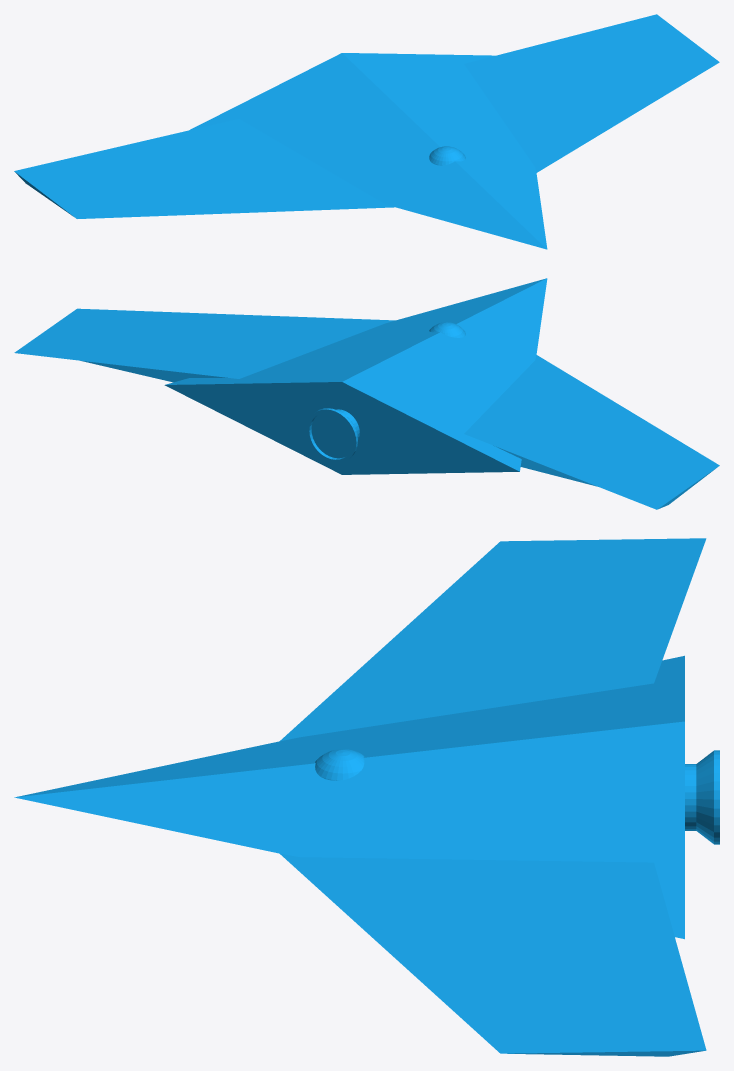
The model's file is Dart.fbx.
3 renders of one model, top to bottom at view 1: azimuth 30°, elevation 25°; view 2: azimuth 150°, elevation 25°; view 3: azimuth 270°, elevation 25°, orthographic. The views are drawn at different scales.
Parts seen in each view (by area): view 1: Cube; view 2: Cube; view 3: Cube.
Part boxes in pixels (box(x1,y1,x2,y2)): Cube: box(14, 14, 719, 249); Cube: box(14, 278, 719, 509); Cube: box(14, 538, 719, 1056).
Bounding box in the file's own units: 181 × 25.1 × 106.
